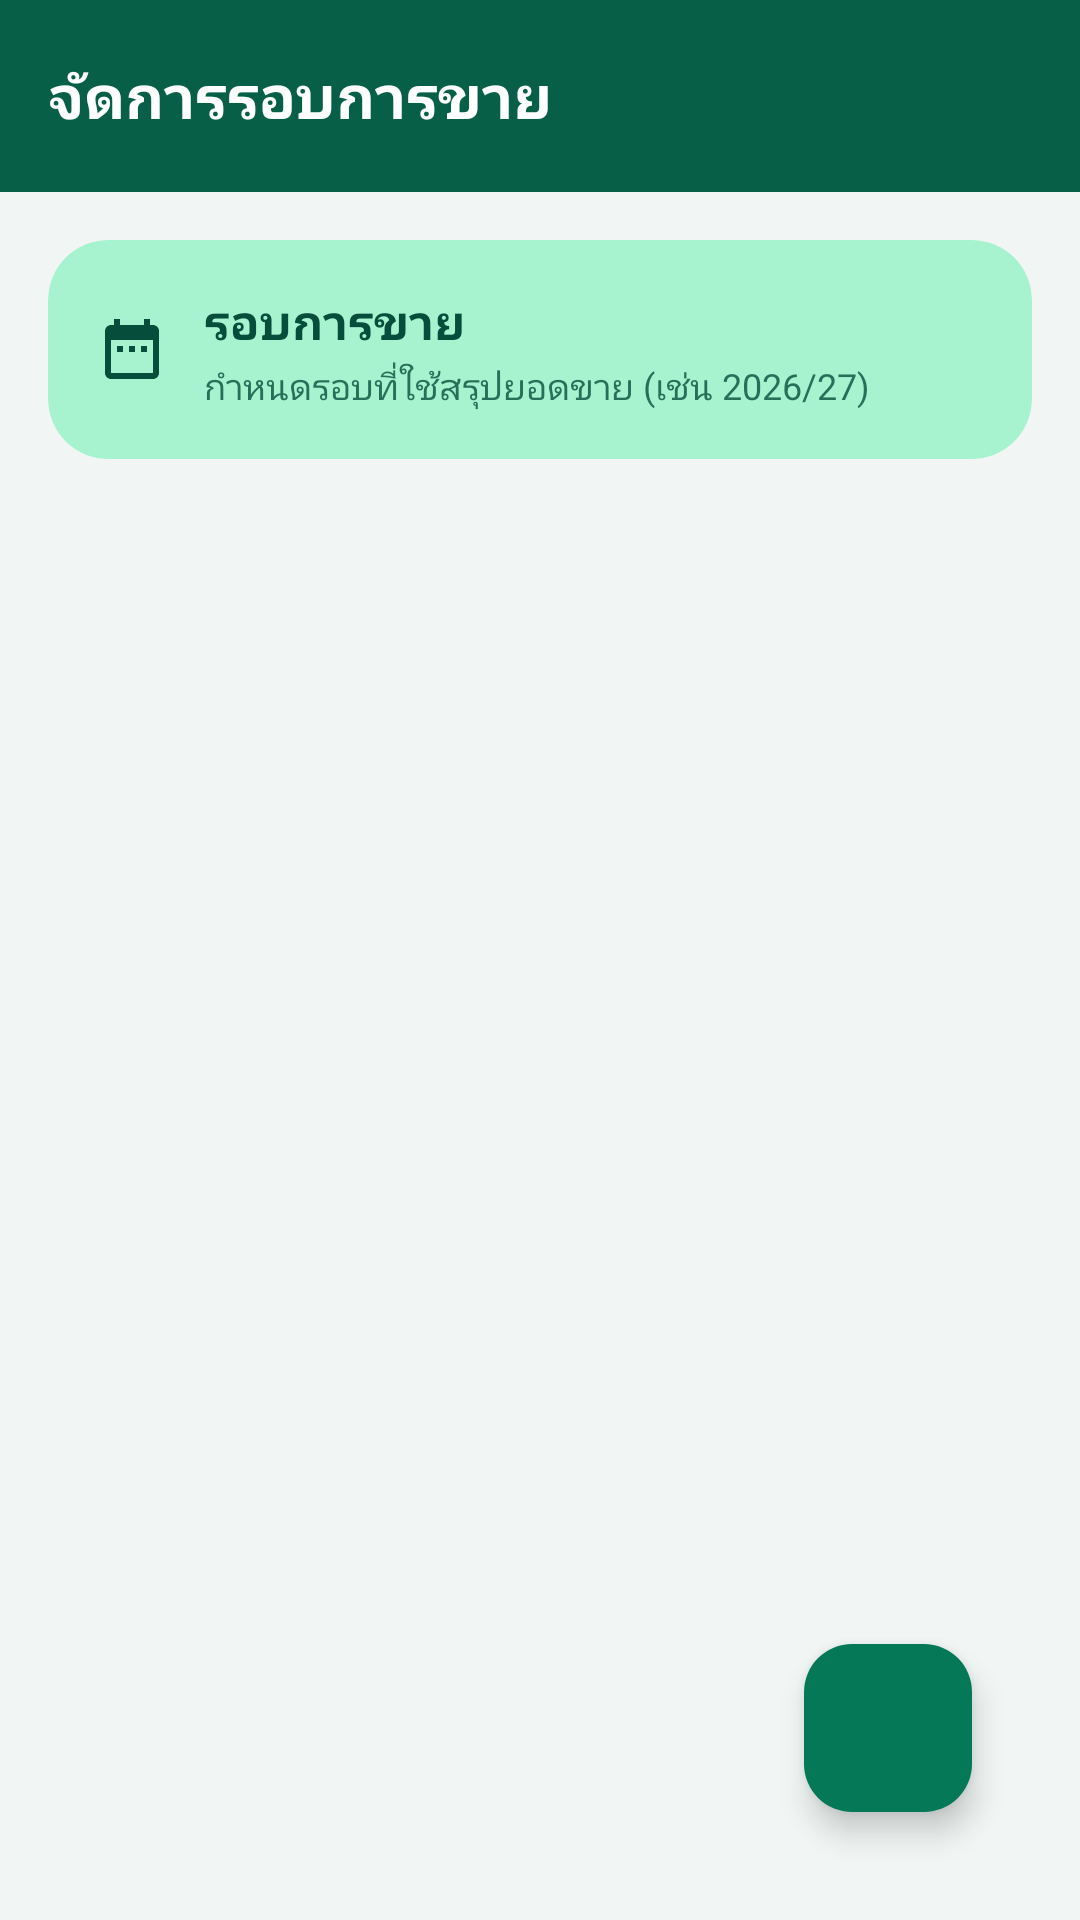

Point at icon controls on the screen. Image size 1080*1920, points as point (x, y).
season: point (132, 349)
